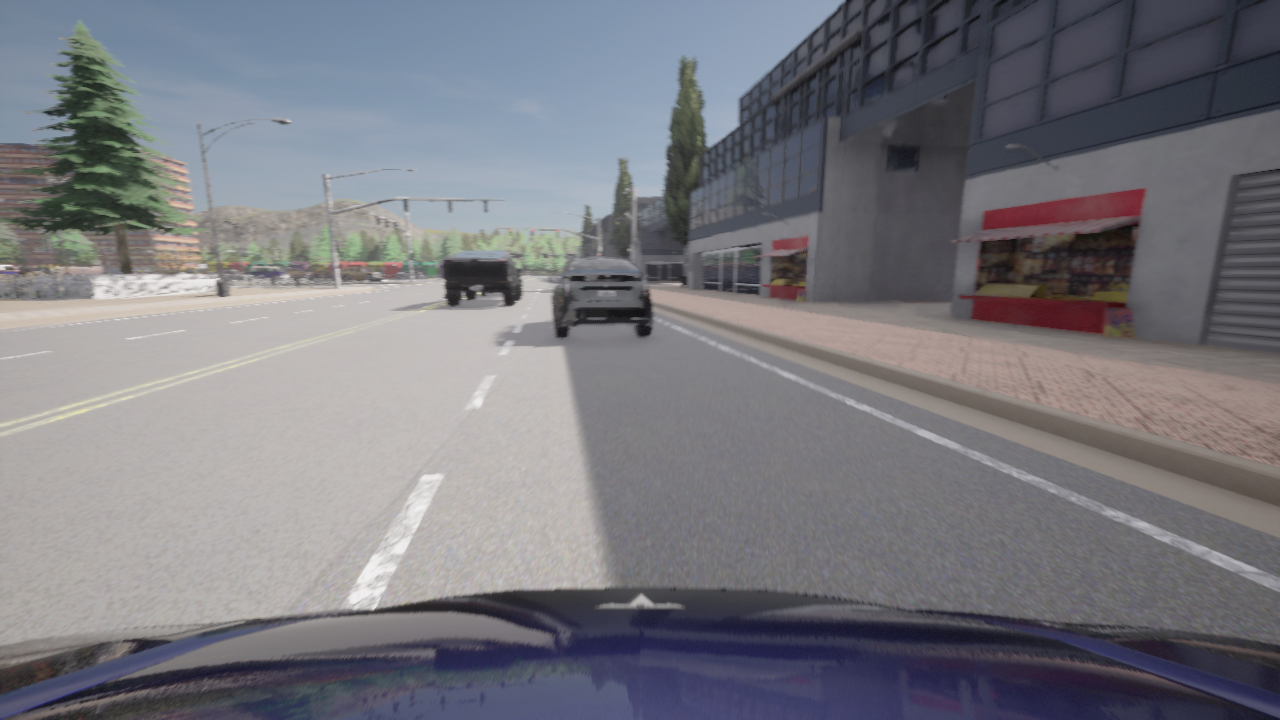cyclist: (0, 588, 1279, 719), (549, 258, 651, 338), (442, 251, 521, 306), (481, 269, 521, 296), (338, 267, 379, 281), (250, 267, 287, 279), (117, 269, 160, 278), (216, 270, 252, 280), (301, 271, 340, 280), (14, 266, 44, 277), (283, 268, 312, 279), (360, 267, 384, 280), (205, 268, 234, 277), (149, 268, 186, 275), (0, 264, 19, 277), (397, 269, 420, 279), (404, 274, 424, 278), (154, 271, 165, 274)
